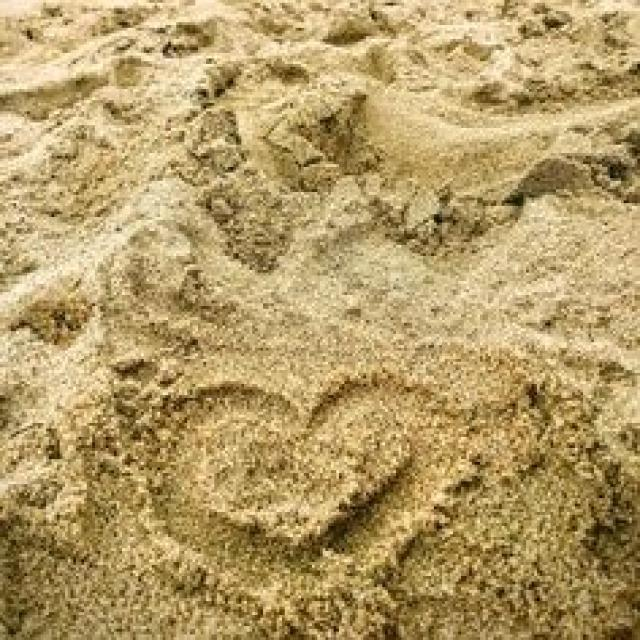white-sand: (0, 0, 639, 639)
